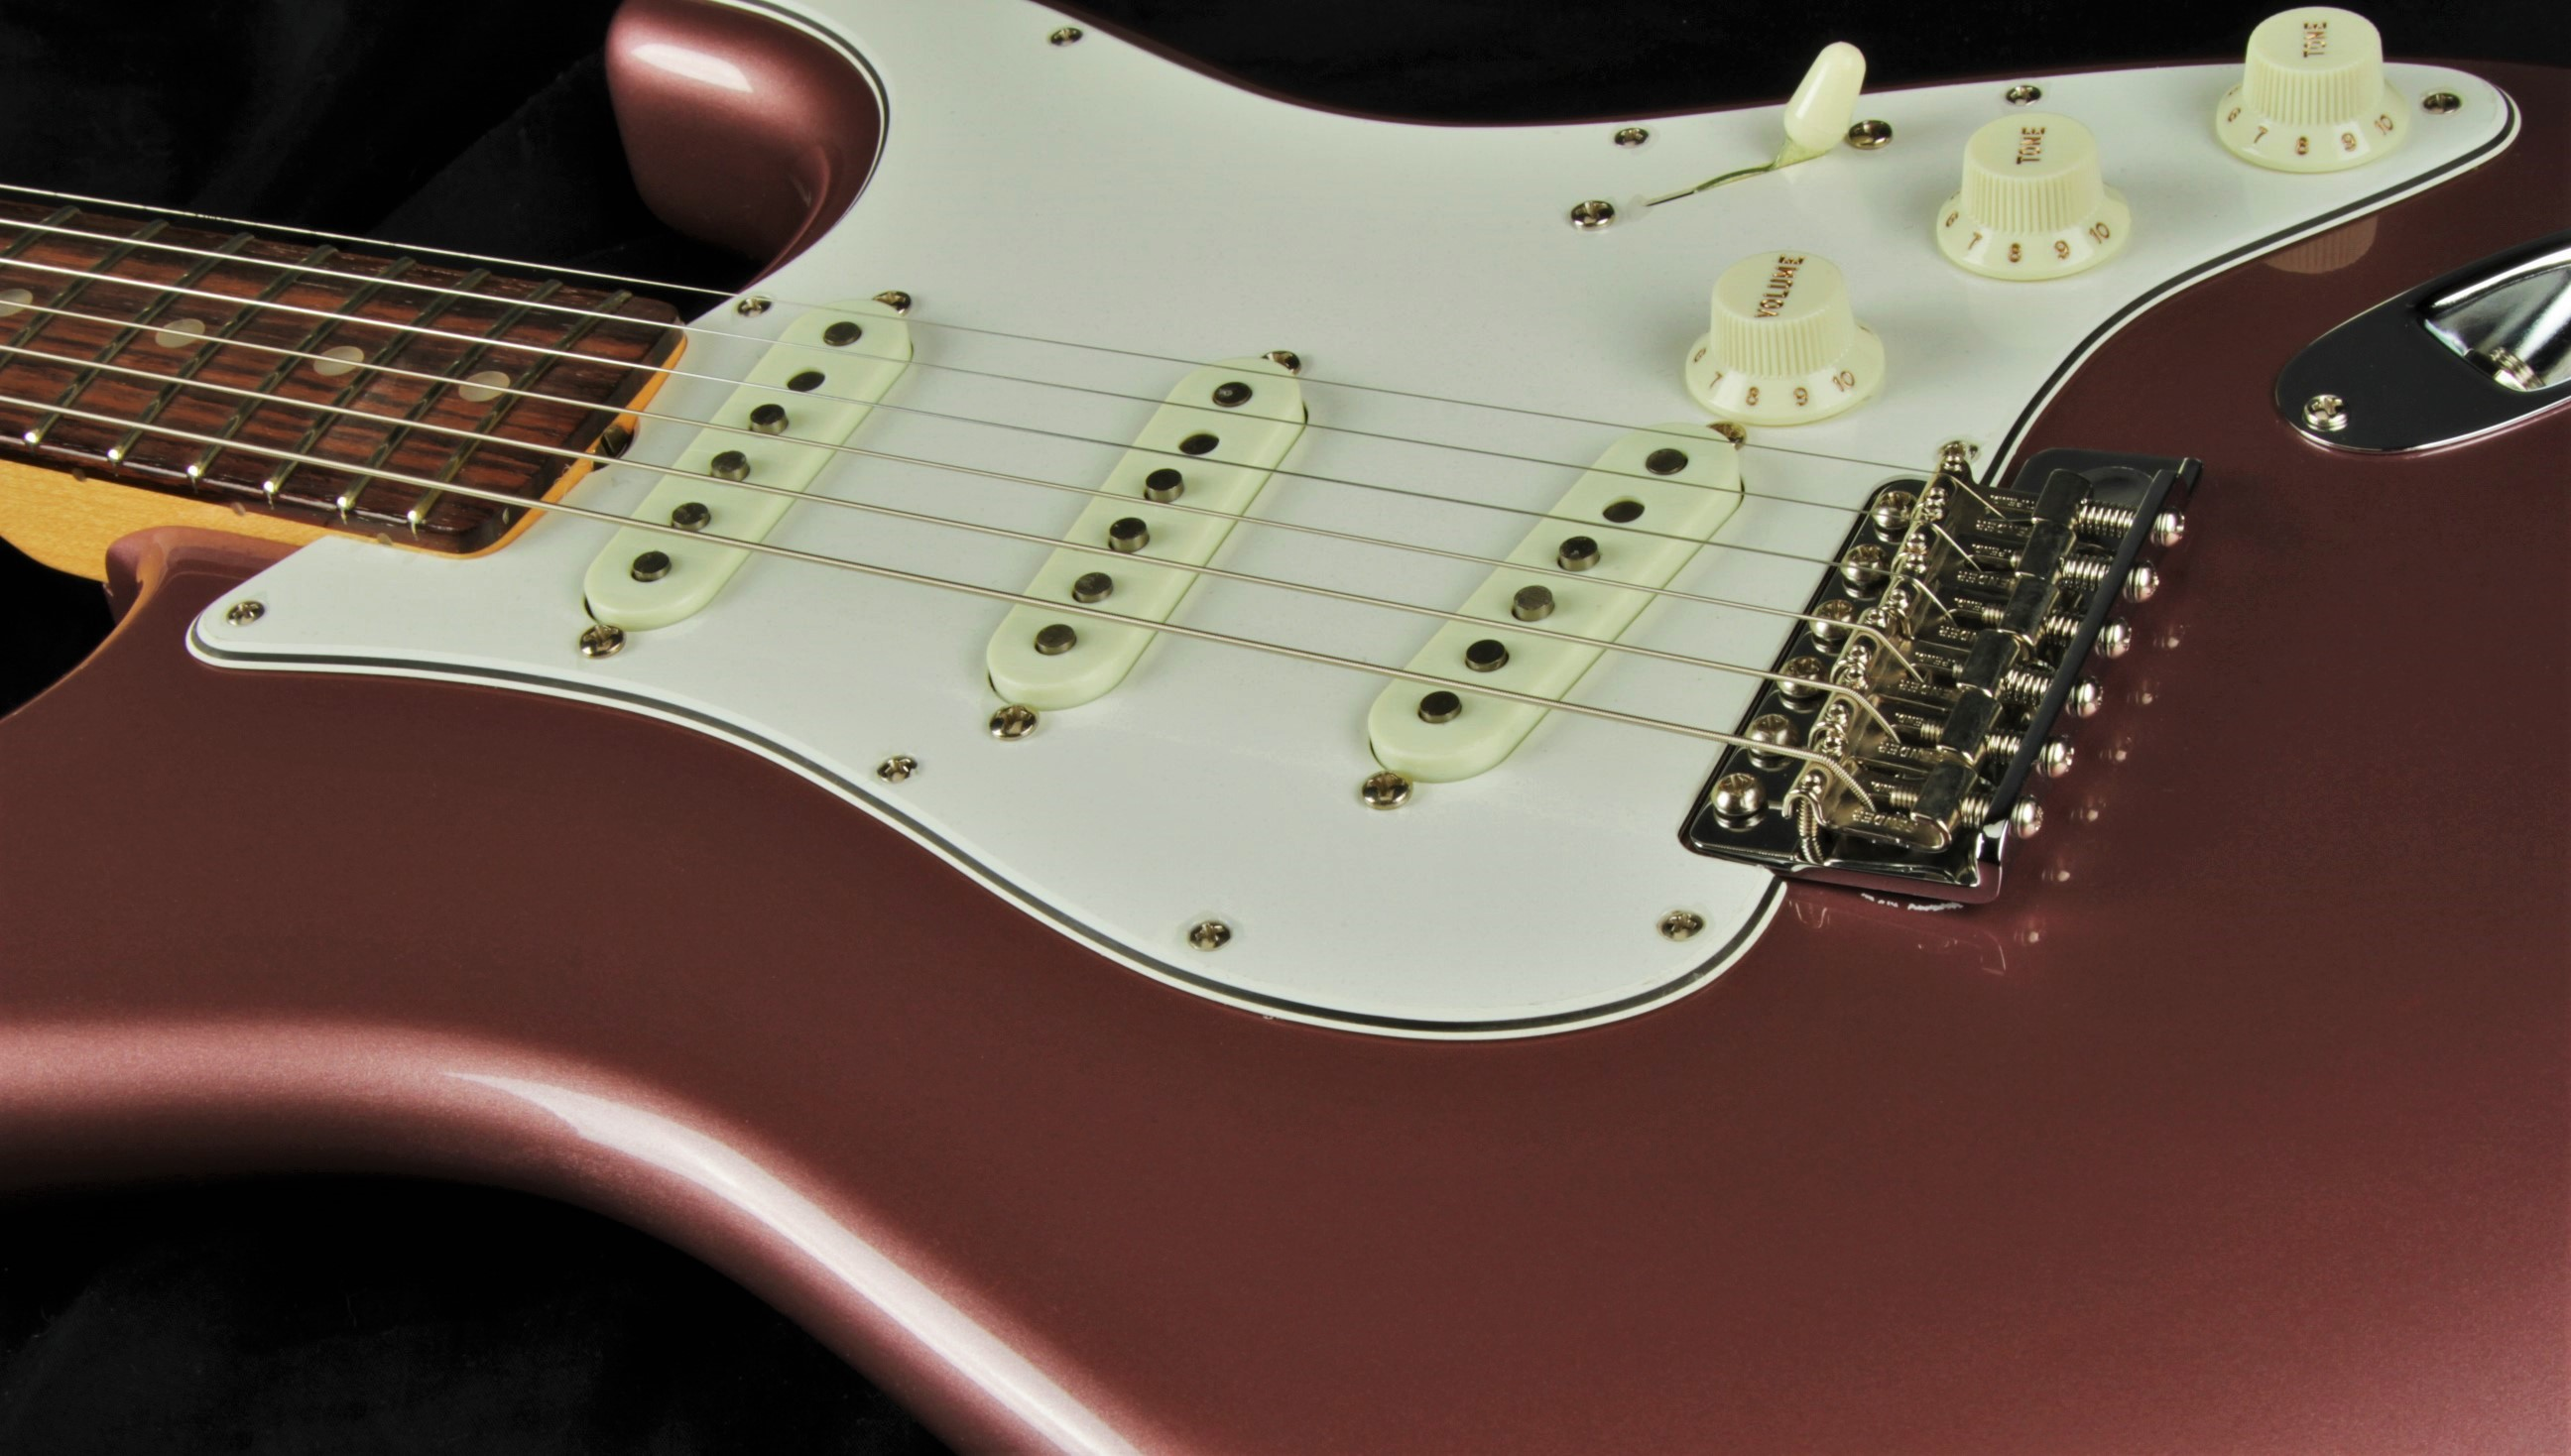ElectricGuitar: (11, 42, 2543, 1389)
